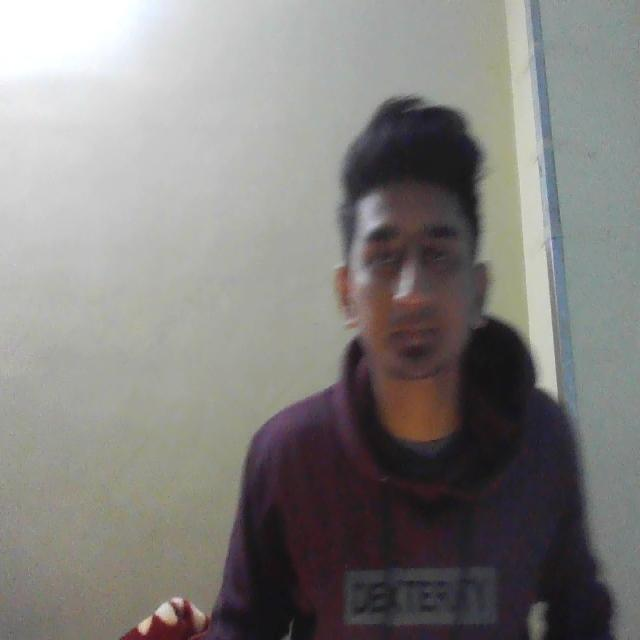real: (334, 112, 494, 415)
